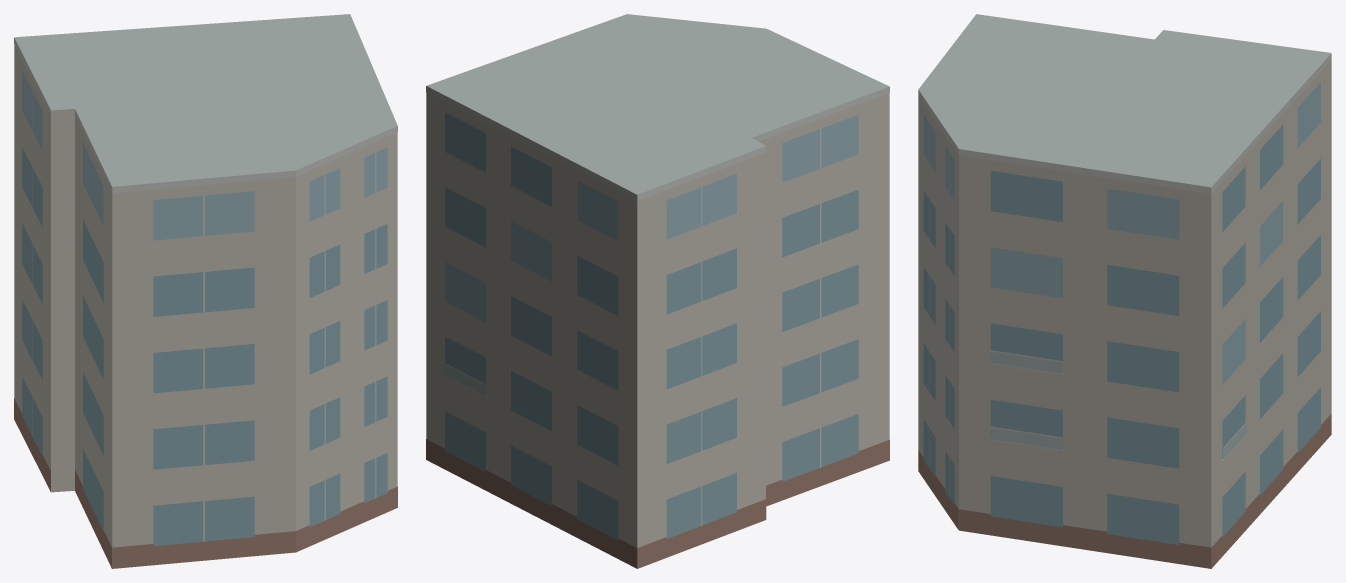
File: survey-upis-32851067.glb
3 views of the same model, side by side, from view 1: azimuth 30°, elevation 25°; view 2: azimuth 150°, elevation 25°; view 3: azimuth 270°, elevation 25° (orthographic). The views are drawn at different scales.
Visible parts, largest first — view 1: survey-upis-32851067.tmp; view 2: survey-upis-32851067.tmp; view 3: survey-upis-32851067.tmp.
Boxes of the visible parts, <box> form: survey-upis-32851067.tmp: <box>14,14,397,568</box>; survey-upis-32851067.tmp: <box>426,14,889,568</box>; survey-upis-32851067.tmp: <box>918,14,1331,568</box>.
Bounding box in the file's own units: 13.8 × 14.15 × 13.91.
